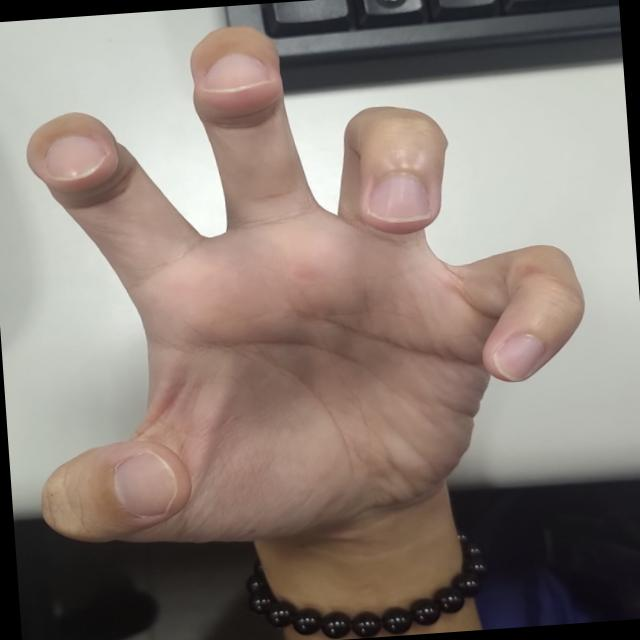Nail: (113, 451, 177, 518), (368, 172, 430, 222), (44, 135, 106, 179), (204, 52, 270, 91), (493, 334, 544, 381)
